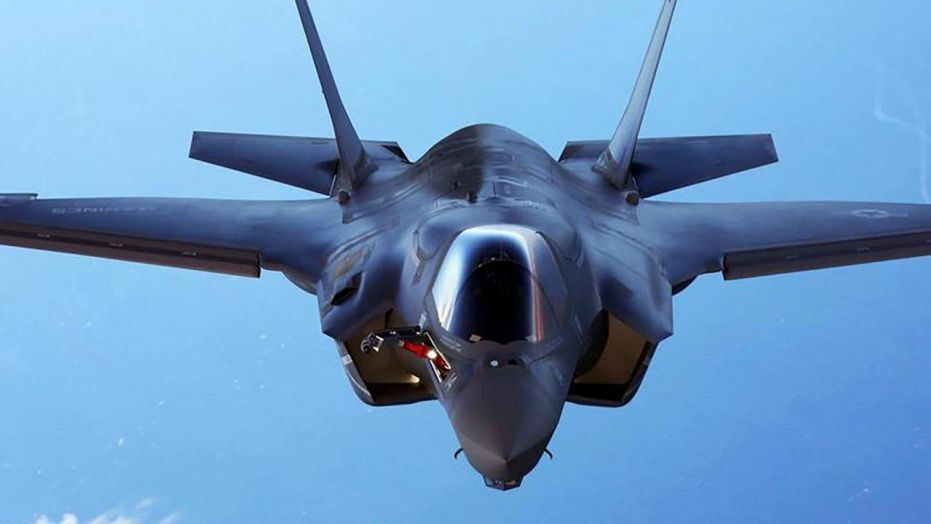F-35 Lightning: (60, 6, 877, 506)
